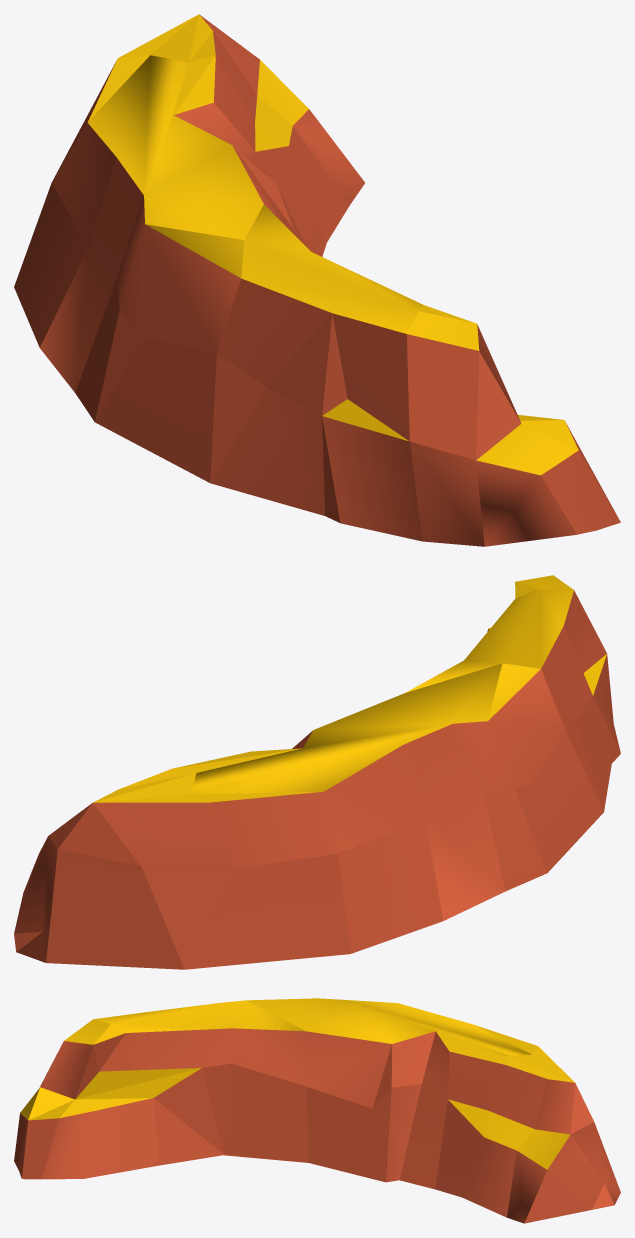
The model's file is Mountain2.fbx.
The picture shows the model from 3 angles, top to bottom: view 1: azimuth 30°, elevation 25°; view 2: azimuth 150°, elevation 25°; view 3: azimuth 270°, elevation 25°; orthographic projection. The views are drawn at different scales.
Visible parts, largest first — view 1: Mountain2; view 2: Mountain2; view 3: Mountain2.
Boxes of the visible parts, x1=… form: Mountain2: x1=14, y1=14, x2=620, y2=546; Mountain2: x1=14, y1=575, x2=620, y2=969; Mountain2: x1=14, y1=998, x2=620, y2=1223.
Size of the model in its own units: 13.62 by 25.94 by 5.75.
